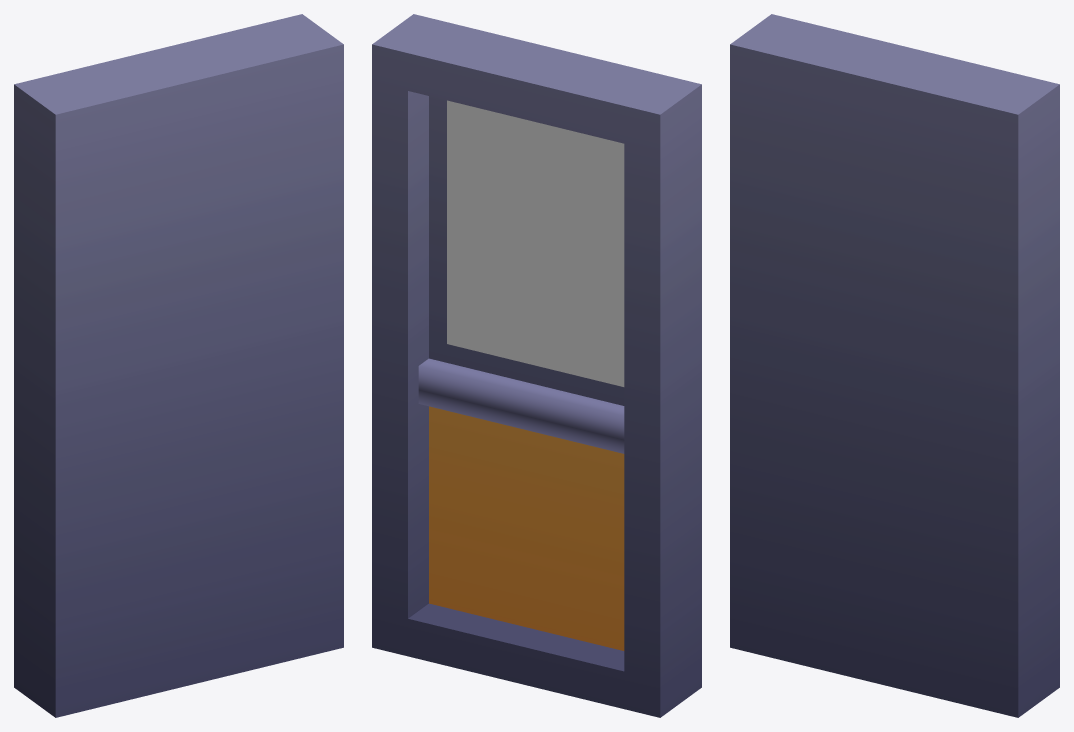
Rendered from kenney-conveyor-door.glb.
The picture shows the model from 3 angles, left to right: view 1: azimuth 30°, elevation 25°; view 2: azimuth 150°, elevation 25°; view 3: azimuth 330°, elevation 25°; orthographic projection.
Visible parts, largest first — view 1: door_1; view 2: door_1; view 3: door_1.
Boxes of the visible parts, left/top/right/bottom form: door_1: left=14, top=14, right=343, bottom=717; door_1: left=372, top=14, right=701, bottom=717; door_1: left=730, top=14, right=1059, bottom=717.
Size of the model in its own units: 0.8001 by 1.6 by 0.2.
Materials: 1 (1 with a texture image).
